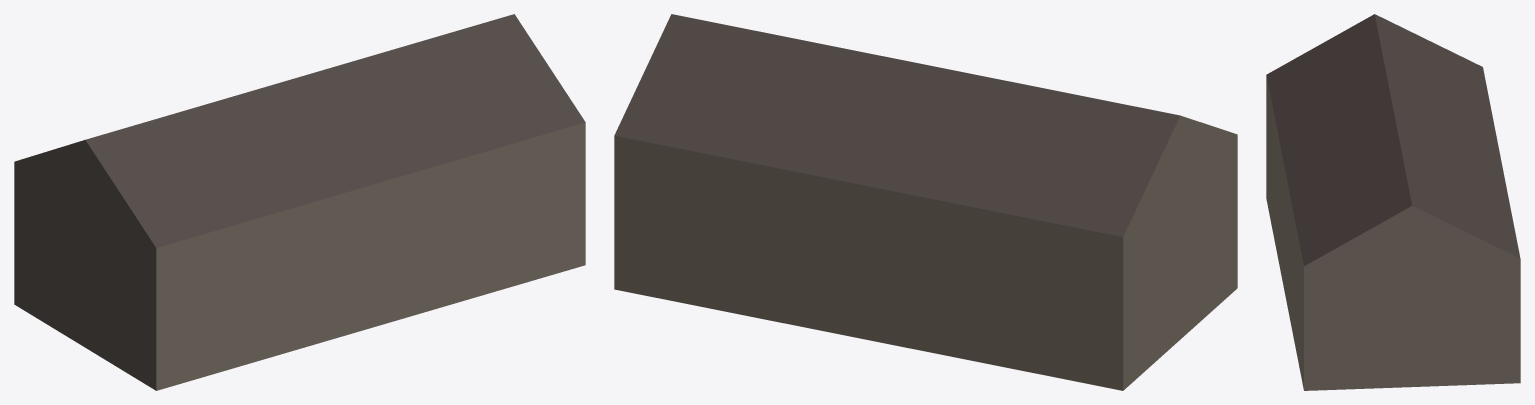
3 renders of one model, left to right at view 1: azimuth 30°, elevation 25°; view 2: azimuth 150°, elevation 25°; view 3: azimuth 270°, elevation 25°, orthographic. The views are drawn at different scales.
Visible parts, largest first — view 1: HP-w369342466; view 2: HP-w369342466; view 3: HP-w369342466.
Part boxes in pixels (x1,y1,x2,y2): HP-w369342466: (14, 14, 585, 390); HP-w369342466: (614, 14, 1237, 390); HP-w369342466: (1266, 14, 1520, 390).
Bounding box in the file's own units: 20.62 × 8.74 × 11.1.
